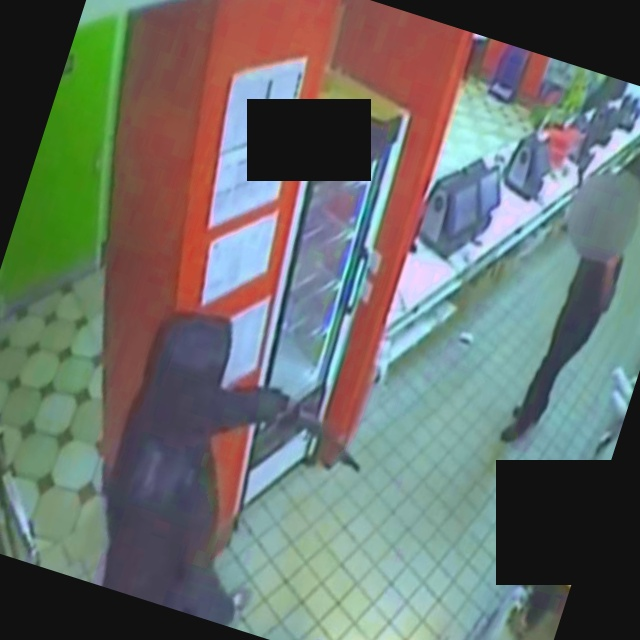gun: (260, 393, 383, 483)
